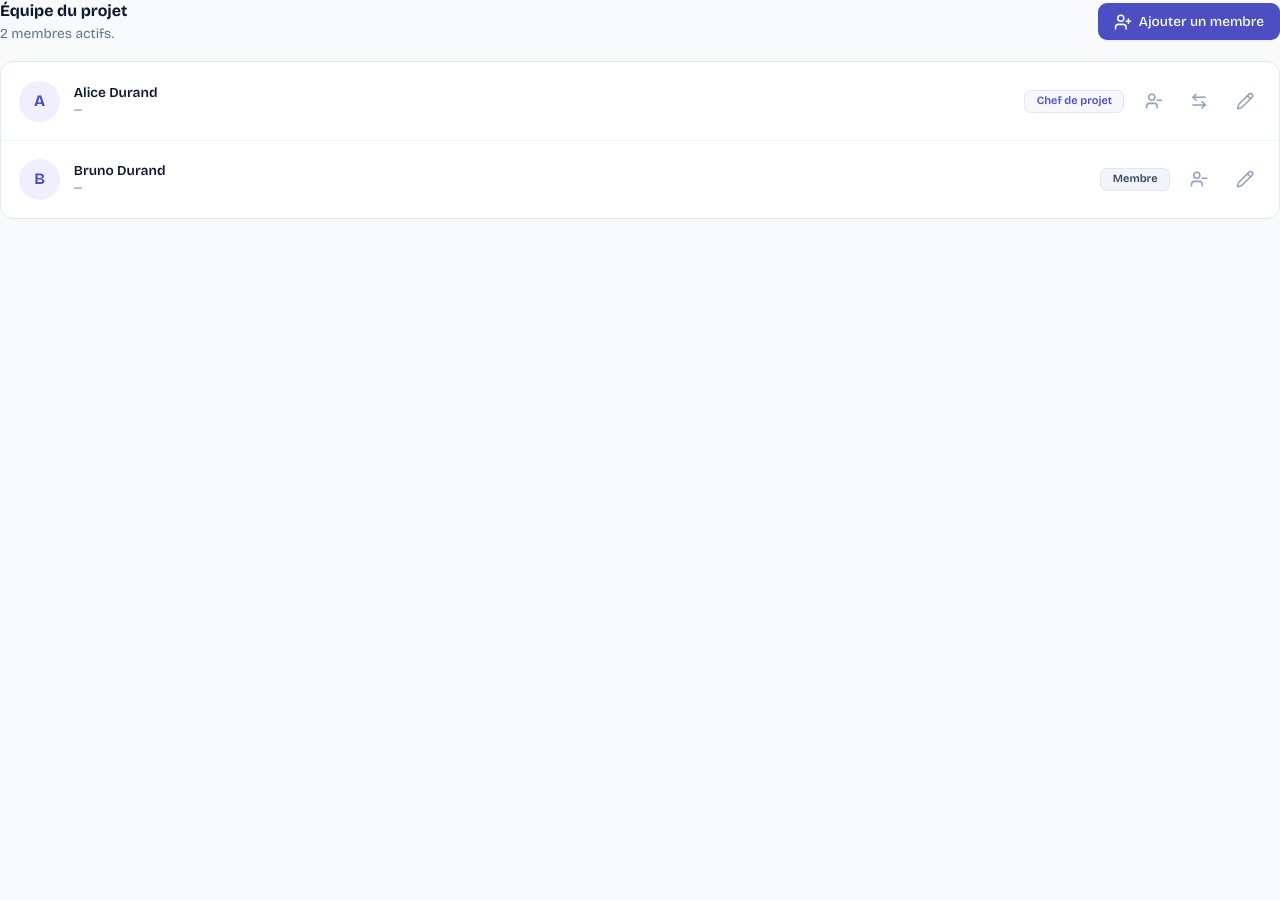
Test: ProjectMembersView : changer de chef de projet › oriente vers « changer de chef » quand on édite la fonction du chef
Click the button named "Modifier la fonction de Alice Durand" at (1245, 101), box [1229,85,1261,117]
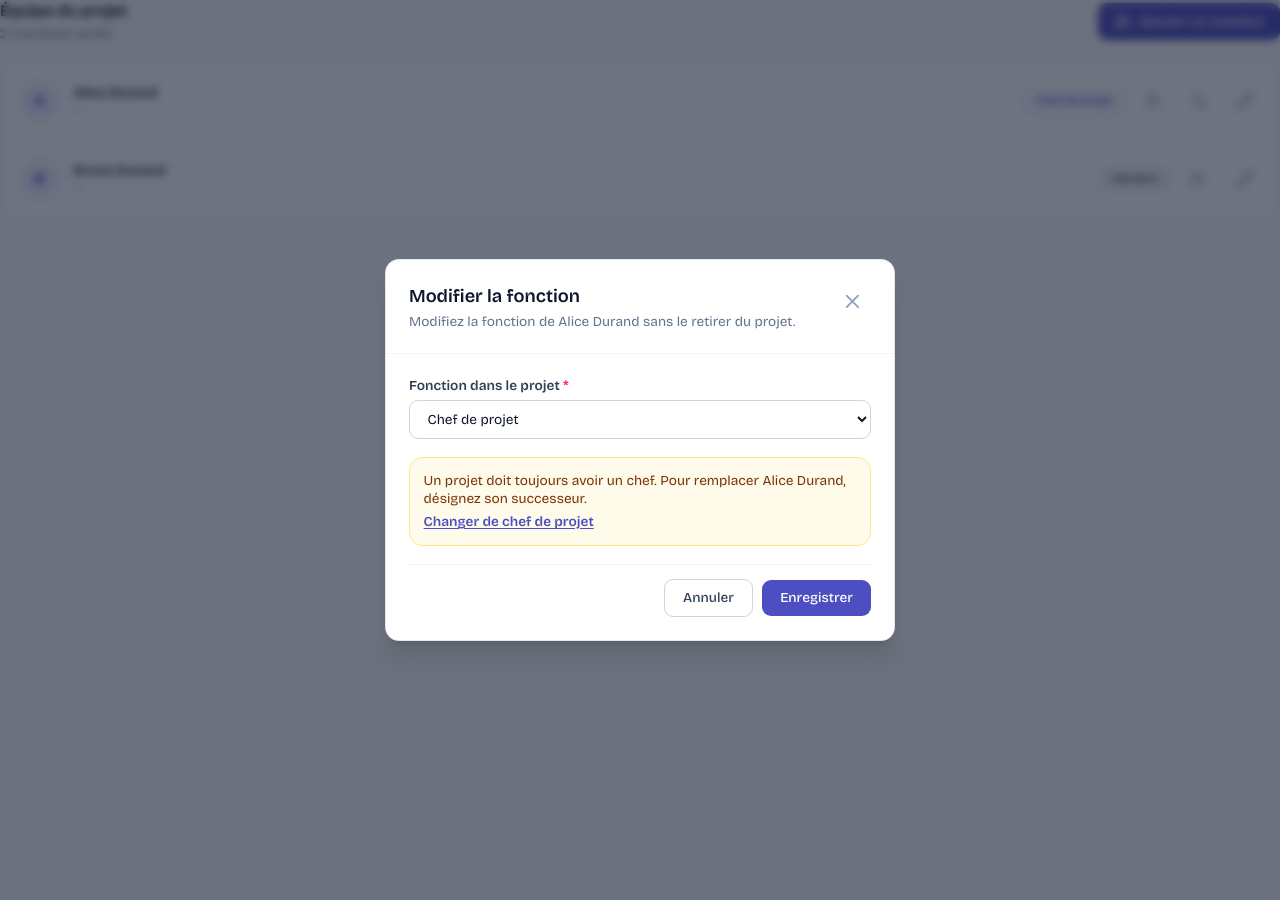
Check: the text "Un projet doit toujours avoir un chef" is shown, box [424,472,762,489]
Click the button "Changer de chef de projet" at (509, 522), box [424,513,594,531]
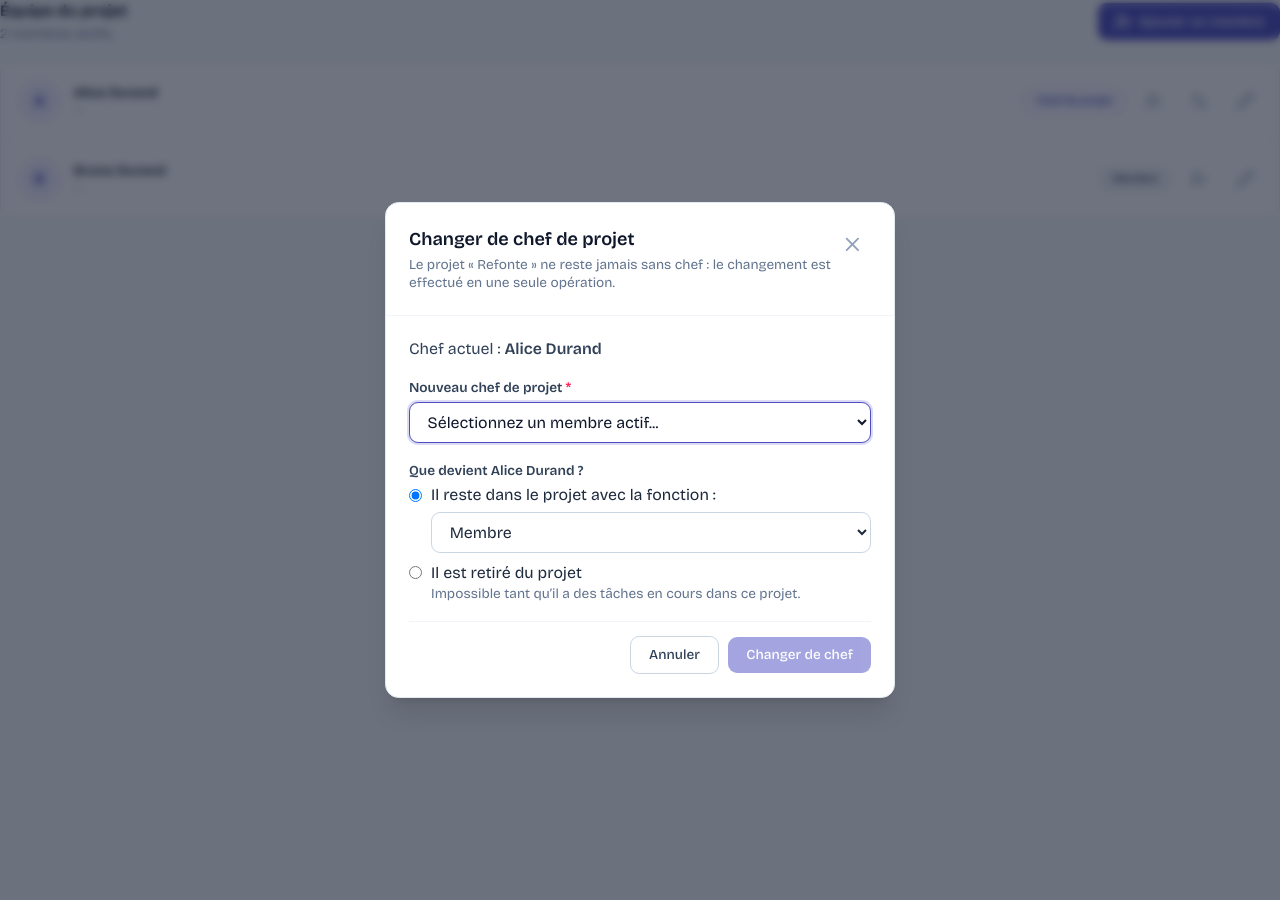
Check: the heading "Changer de chef de projet" is shown, box [409,228,634,250]
